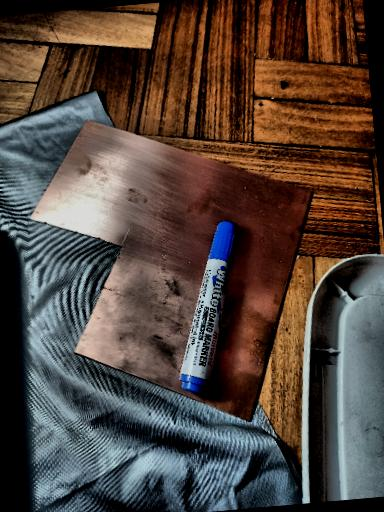marcador azul: (179, 221, 237, 392)
